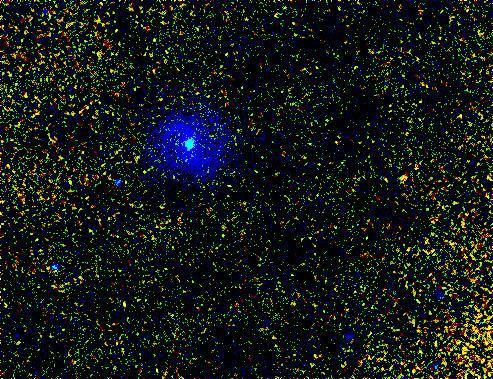star: (388, 162, 418, 192)
